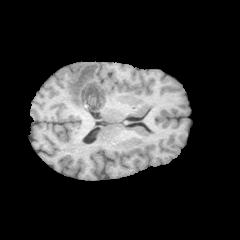glioma: (66, 63, 111, 111)
